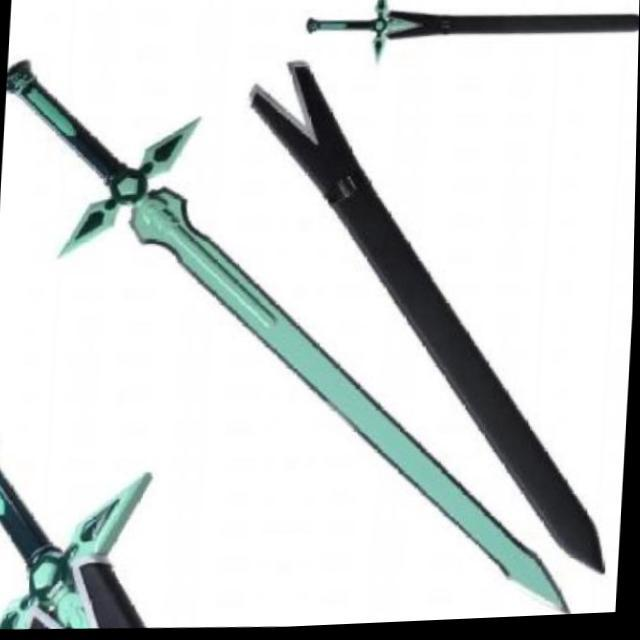weapon: (0, 35, 605, 639), (301, 0, 640, 78)
